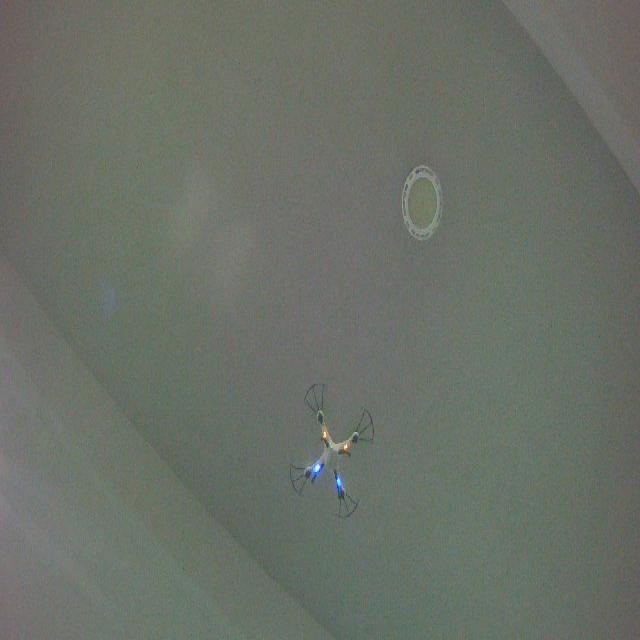drone: (288, 378, 379, 524)
